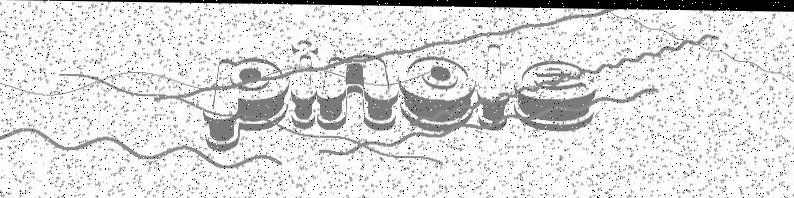e: (515, 59, 595, 130)
i: (292, 39, 316, 129)
l: (477, 43, 509, 129)
n: (317, 54, 398, 130)
o: (400, 55, 473, 128)
p: (204, 56, 289, 151)
